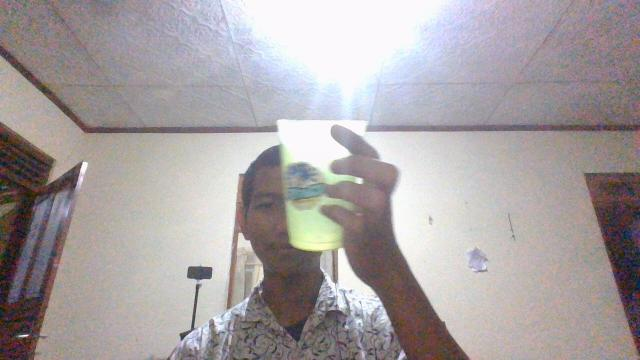botol-hijau: (275, 118, 367, 253)
